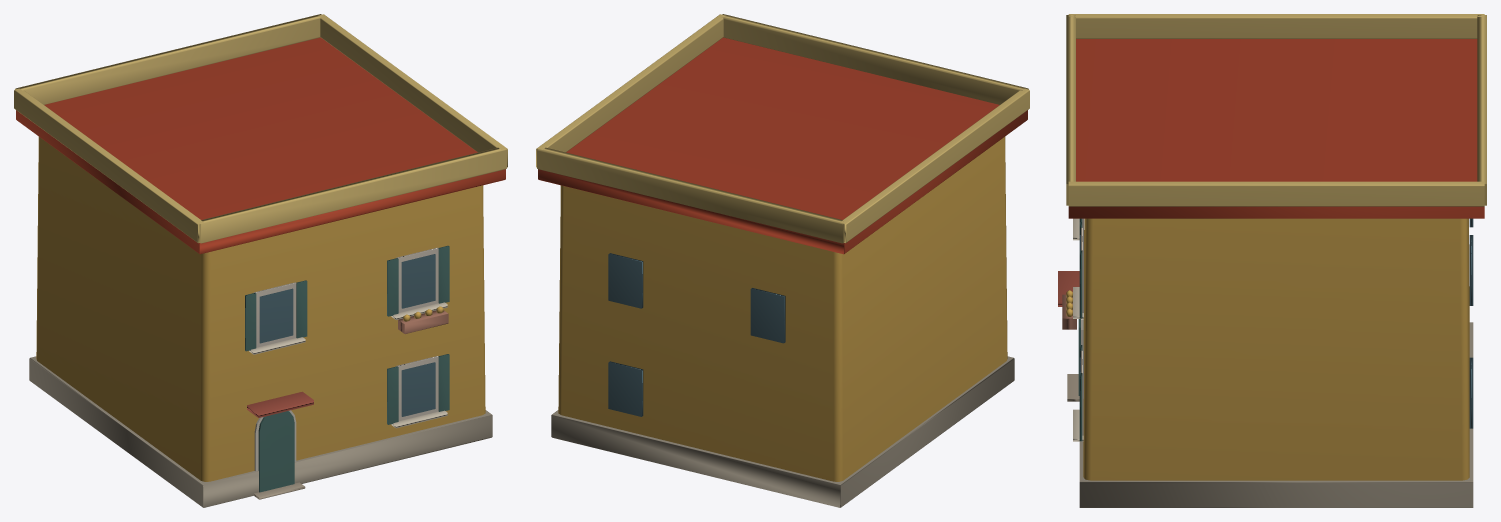
File: house_16.glb
The picture shows the model from 3 angles, left to right: view 1: azimuth 30°, elevation 25°; view 2: azimuth 150°, elevation 25°; view 3: azimuth 270°, elevation 25°; orthographic projection. The views are drawn at different scales.
Parts seen in each view (by area): view 1: house_16; view 2: house_16; view 3: house_16.
Boxes of the visible parts, x1,y1,x2,y2 form: house_16: (14, 14, 507, 507); house_16: (536, 14, 1029, 507); house_16: (1058, 14, 1486, 507).
Size of the model in its own units: 8.4 by 7.56 by 8.87.
